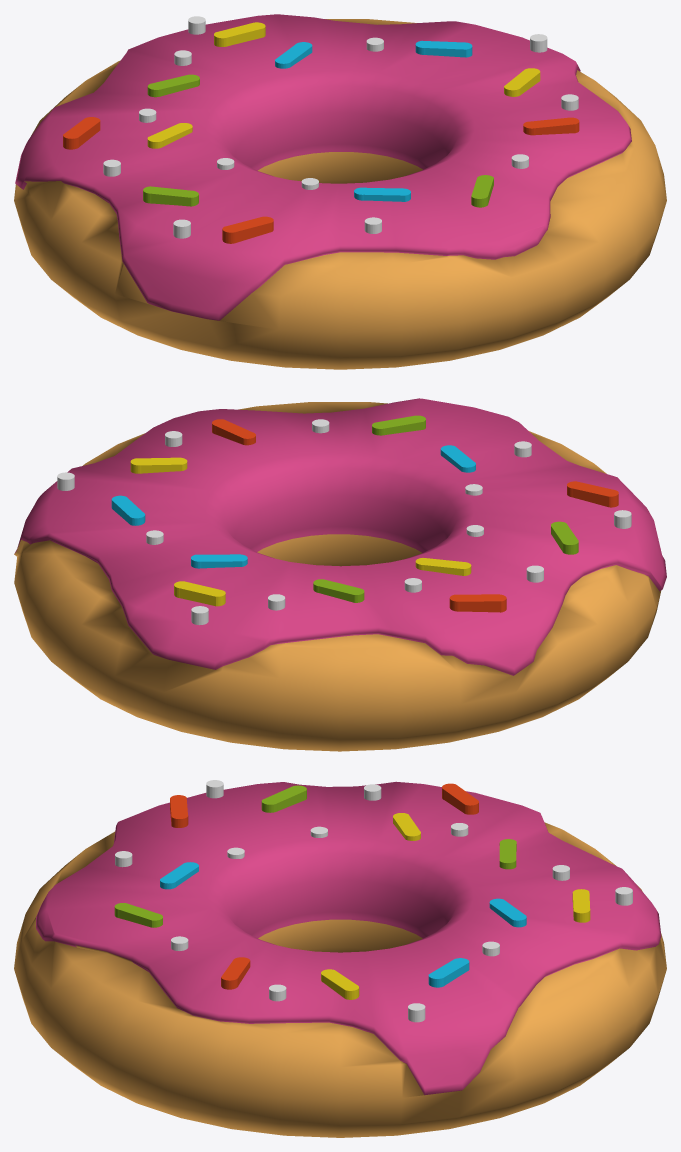
File: nut.glb
3 renders of one model, top to bottom at view 1: azimuth 30°, elevation 25°; view 2: azimuth 150°, elevation 25°; view 3: azimuth 270°, elevation 25°, orthographic.
Visible parts, largest first — view 1: Rosca.001_3, CHISPITAS_2; view 2: Rosca.001_3, CHISPITAS_2; view 3: Rosca.001_3, CHISPITAS_2.
Boxes of the visible parts, x1,y1,x2,y2 form: Rosca.001_3: [14, 14, 666, 369]; CHISPITAS_2: [63, 16, 579, 243]; Rosca.001_3: [14, 398, 666, 751]; CHISPITAS_2: [57, 415, 631, 625]; Rosca.001_3: [14, 781, 666, 1137]; CHISPITAS_2: [114, 780, 632, 1022].
Bounding box in the file's own units: 4.07 × 0.8956 × 4.08.
